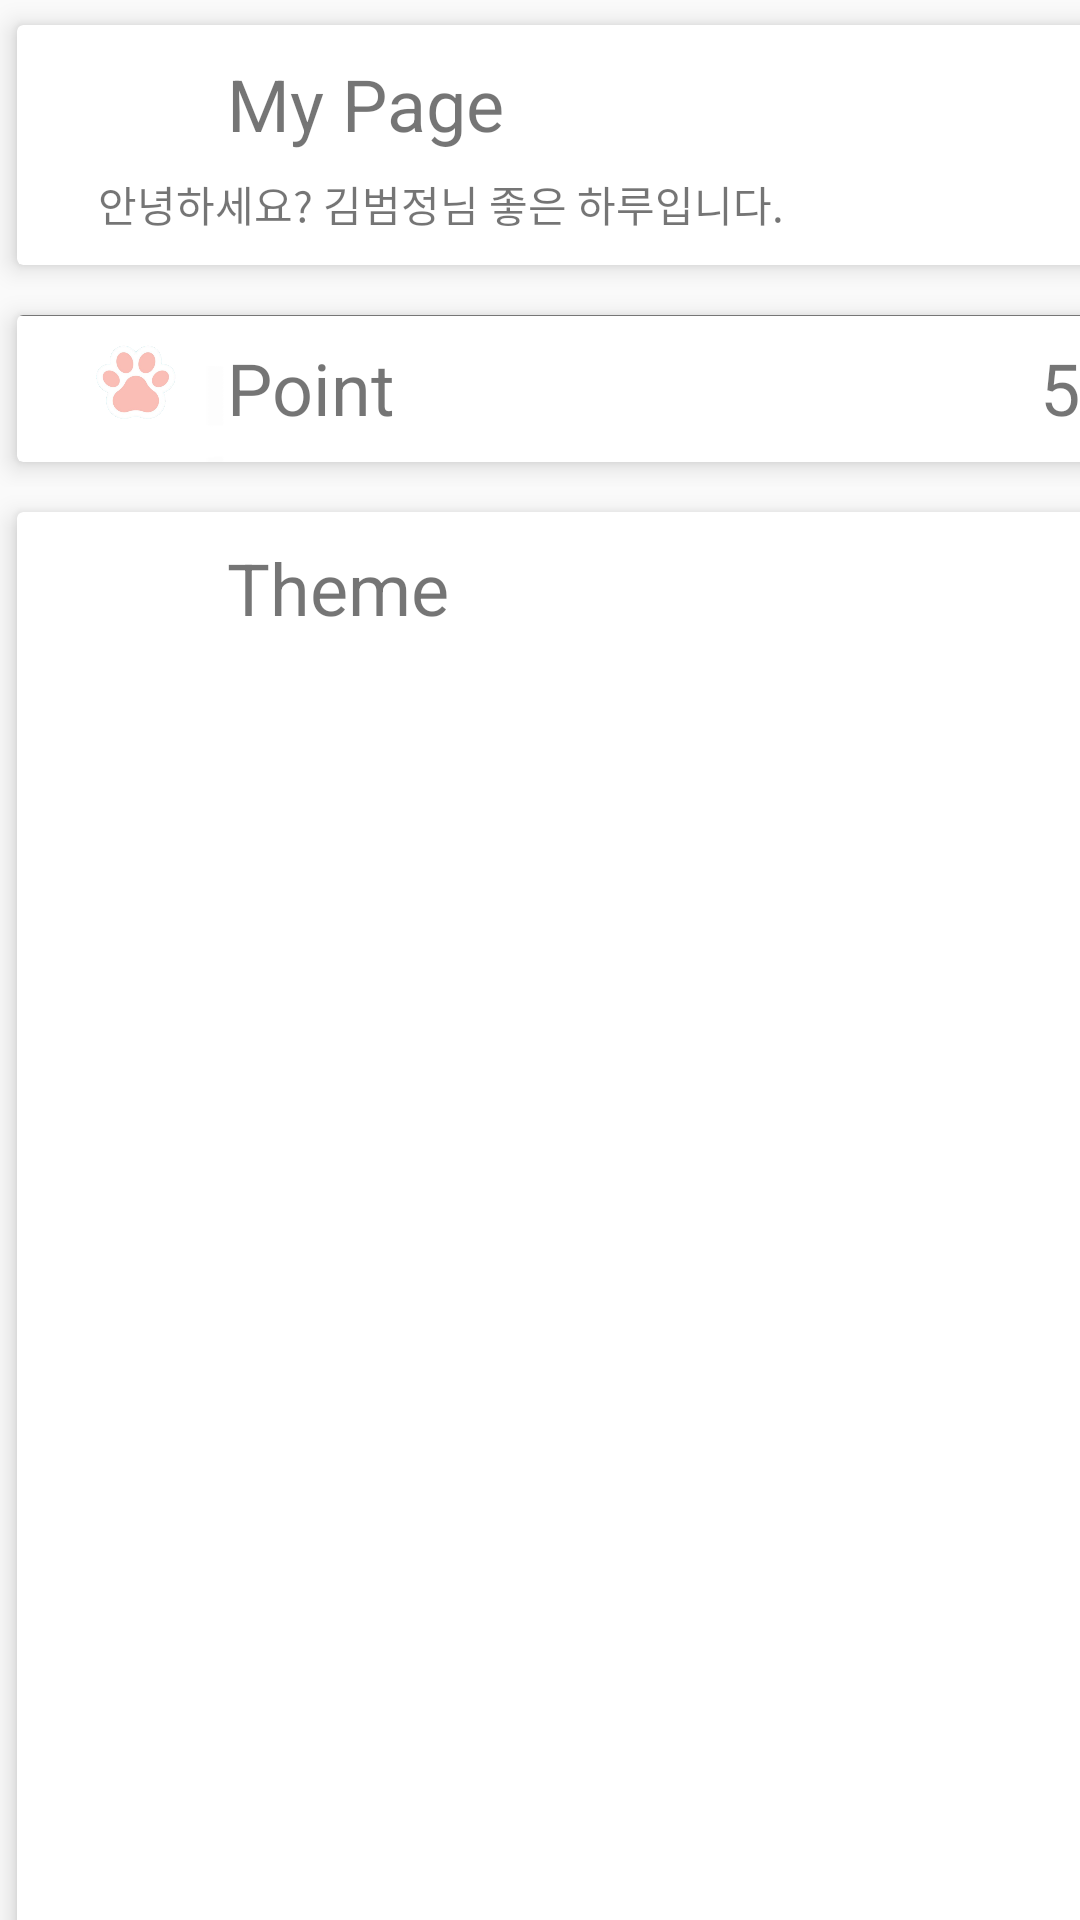

Icons on this 1080 x 1920 Android screen, each with its box as (x1, y1, x2, y2):
cat footprint: (99, 347, 169, 417)
